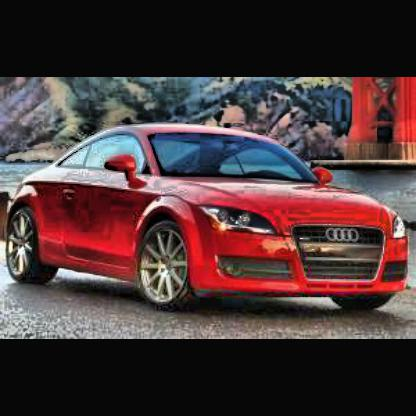Audi TT Hatchback 2011: (2, 129, 411, 314)
